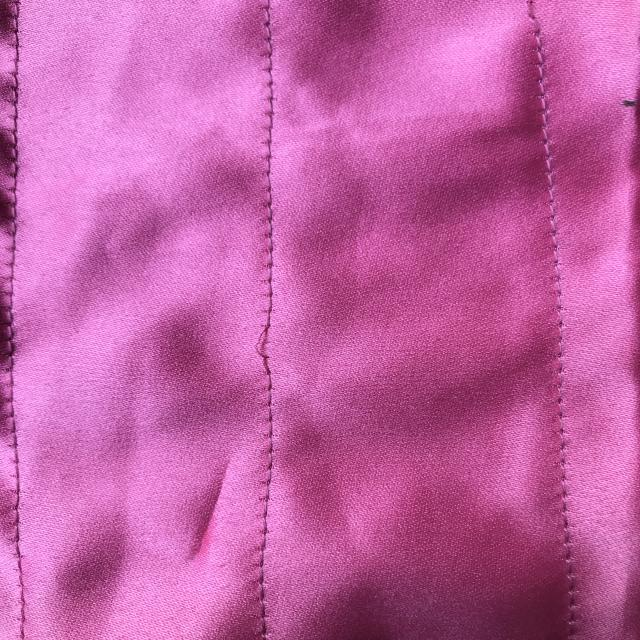skip: (235, 316, 296, 377)
